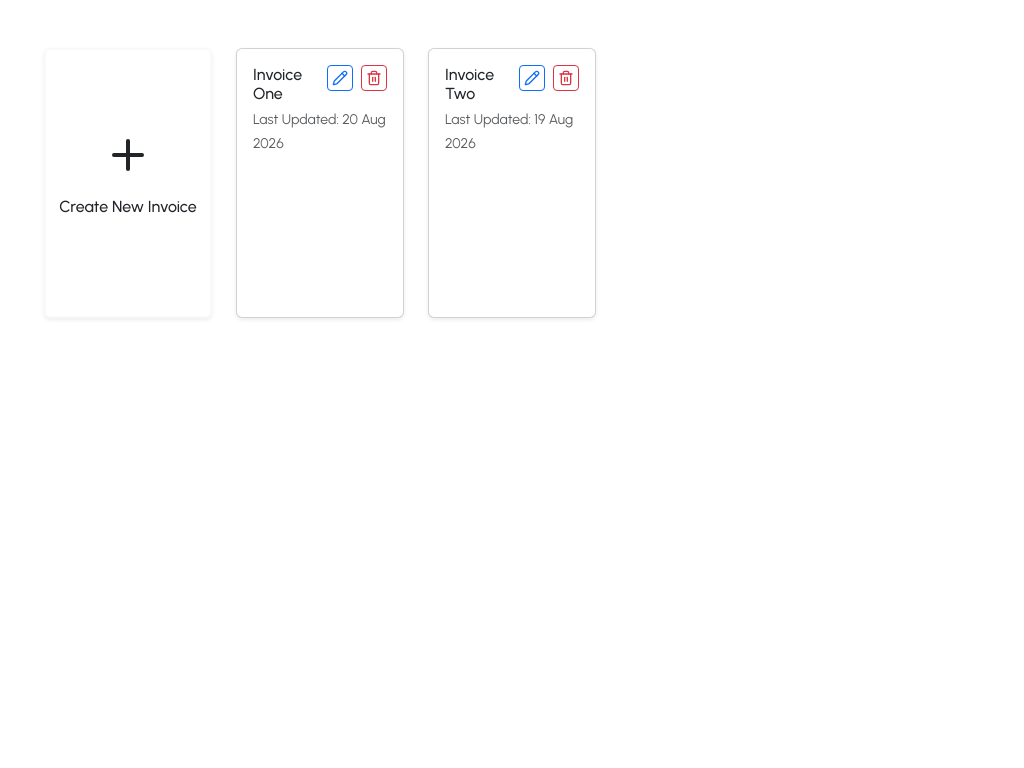
Test: Dashboard › does not delete when confirmation is cancelled
What coordinates should you click on to do the following:
click the button named "Delete Invoice One"
I would click on:
 (374, 78)
Its box is [361,65,387,91].
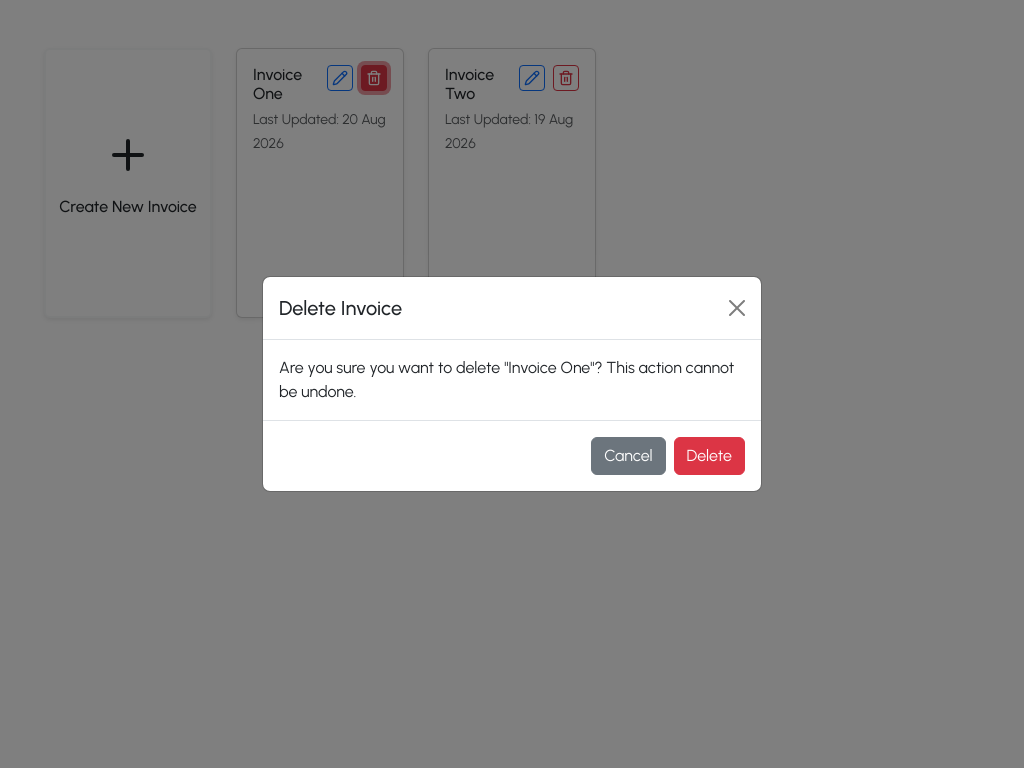
What coordinates should you click on to do the following:
click the button "Cancel"
I would click on:
 (628, 456)
Its box is [591,437,666,475].
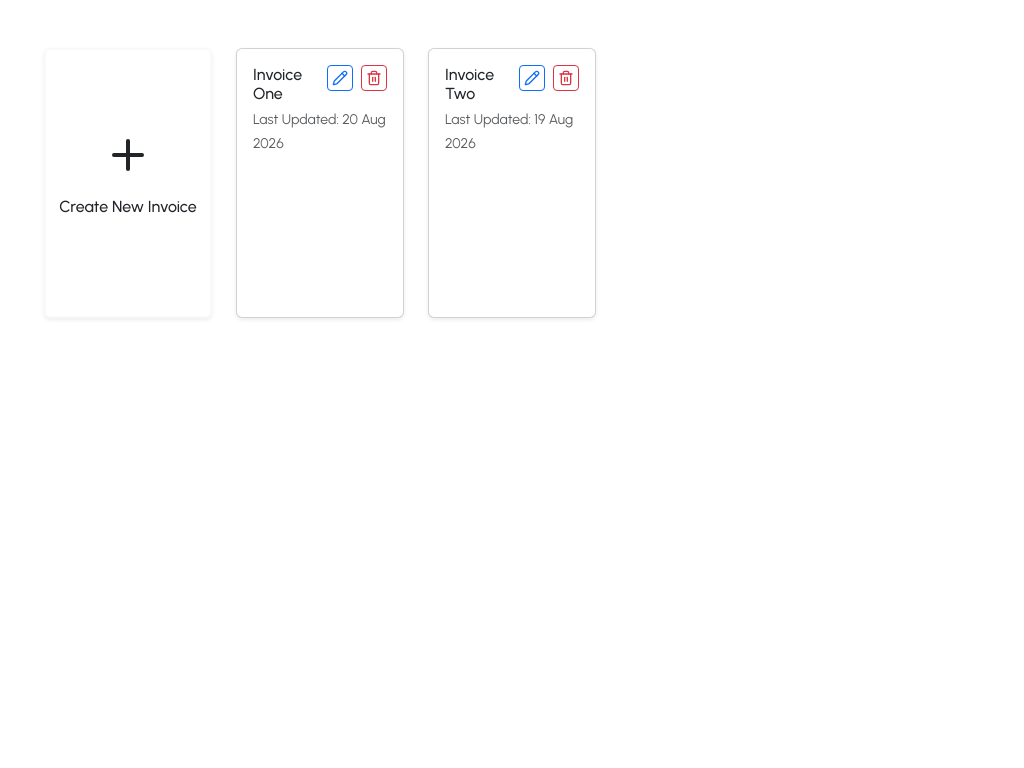
expect the heading "Invoice One" is shown: met, box [253,65,302,103]
expect the text "Are you sure you want to delete" is gone: met
